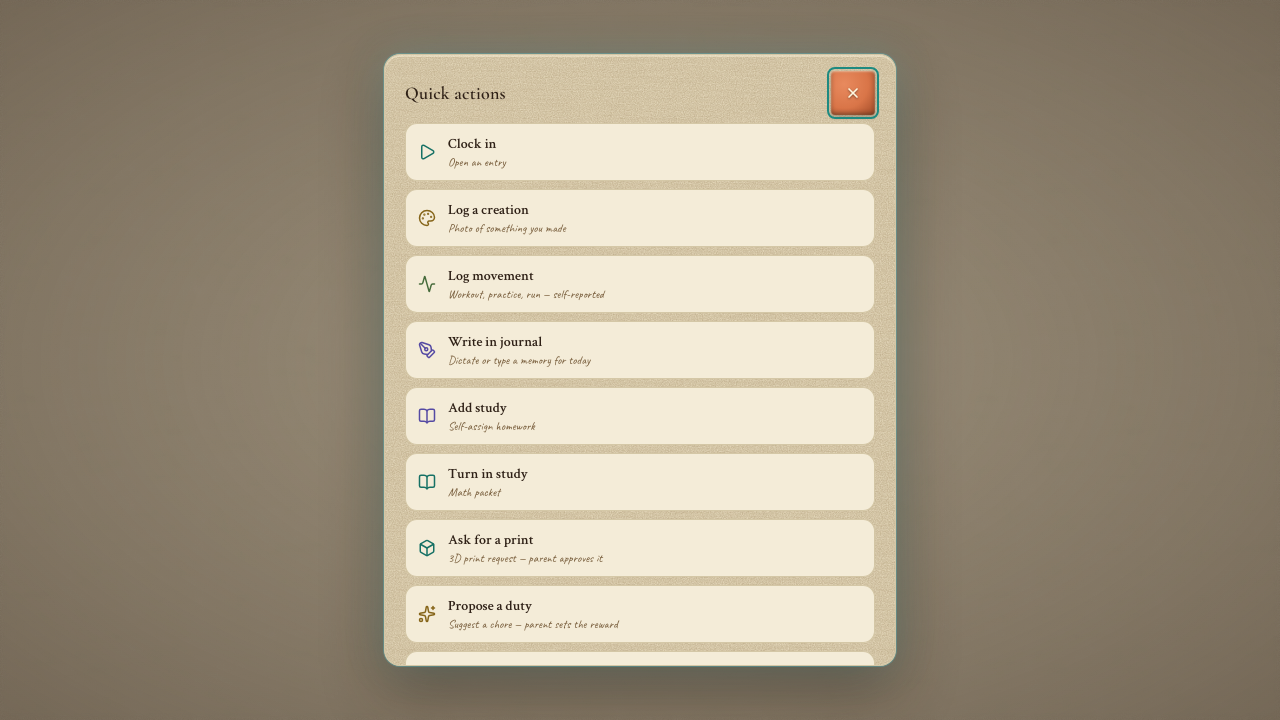
QuickActionsSheet › Turn in study opens the submit sheet for the due assignment in place
Click the button "Turn in study Math packet" at (488, 474), box [405,453,875,511]
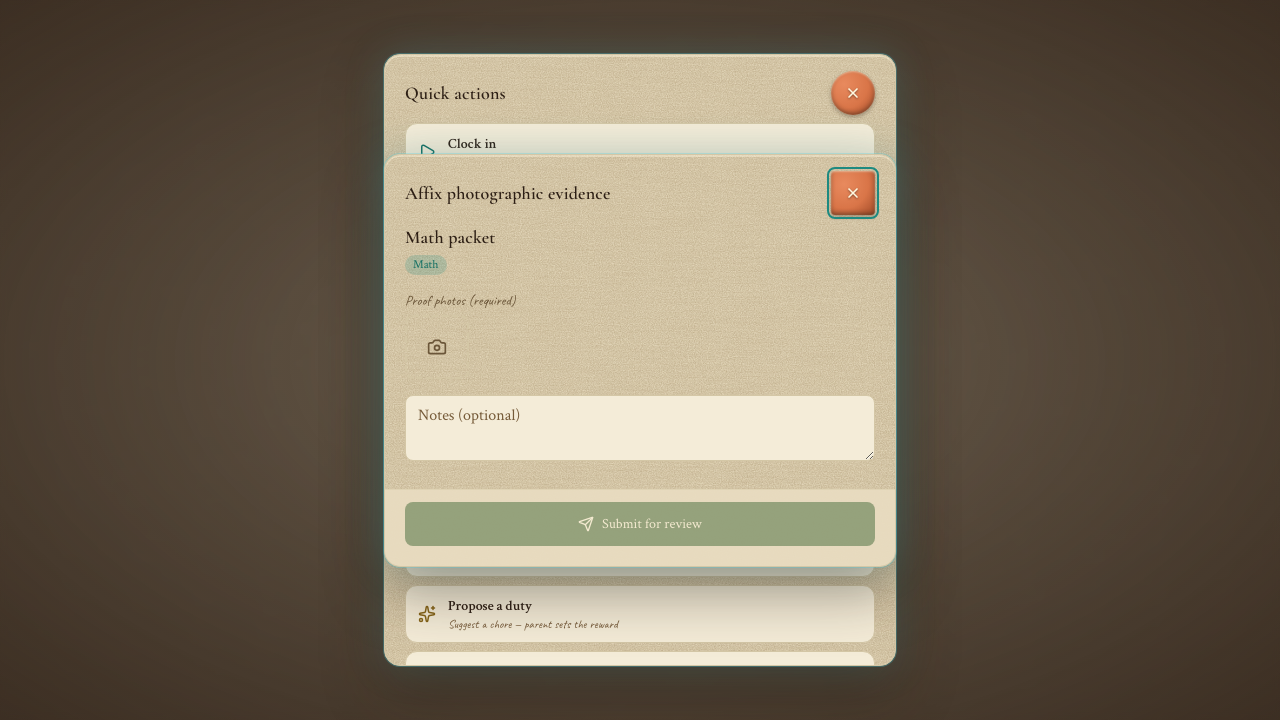
Expected: the button "Submit for review" is shown, [405,502,875,546]
Expected: the dialog is shown, [384,154,896,566]
Expected: the heading "Math packet" is shown, [405,226,496,248]
